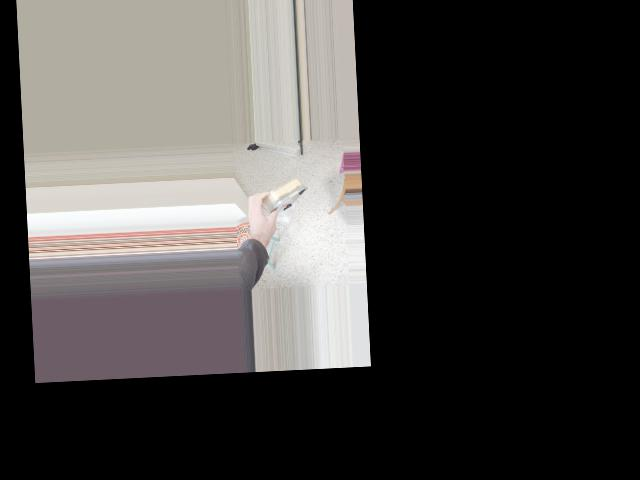cheese: (237, 167, 311, 227)
